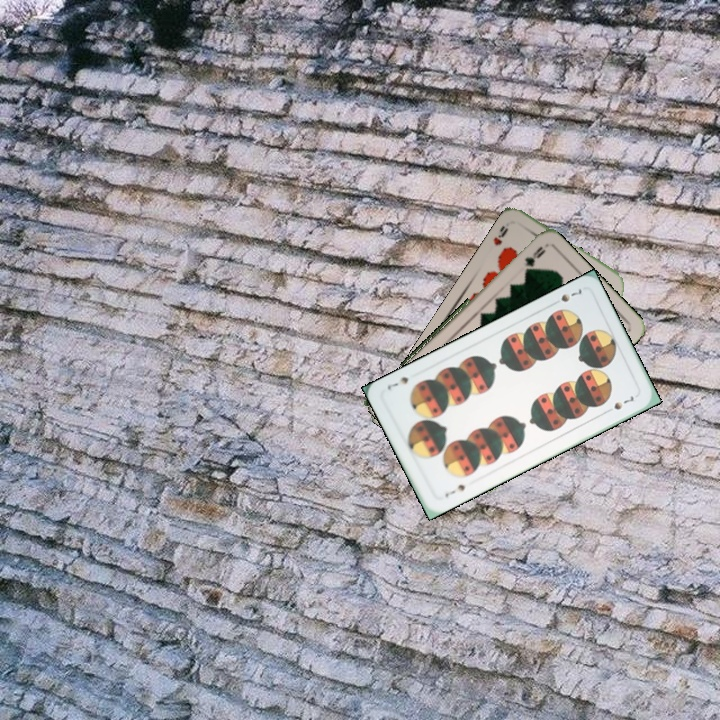G9: (521, 242, 548, 274)
H9: (489, 221, 511, 248)
S7: (556, 284, 584, 305), (441, 480, 468, 500)
